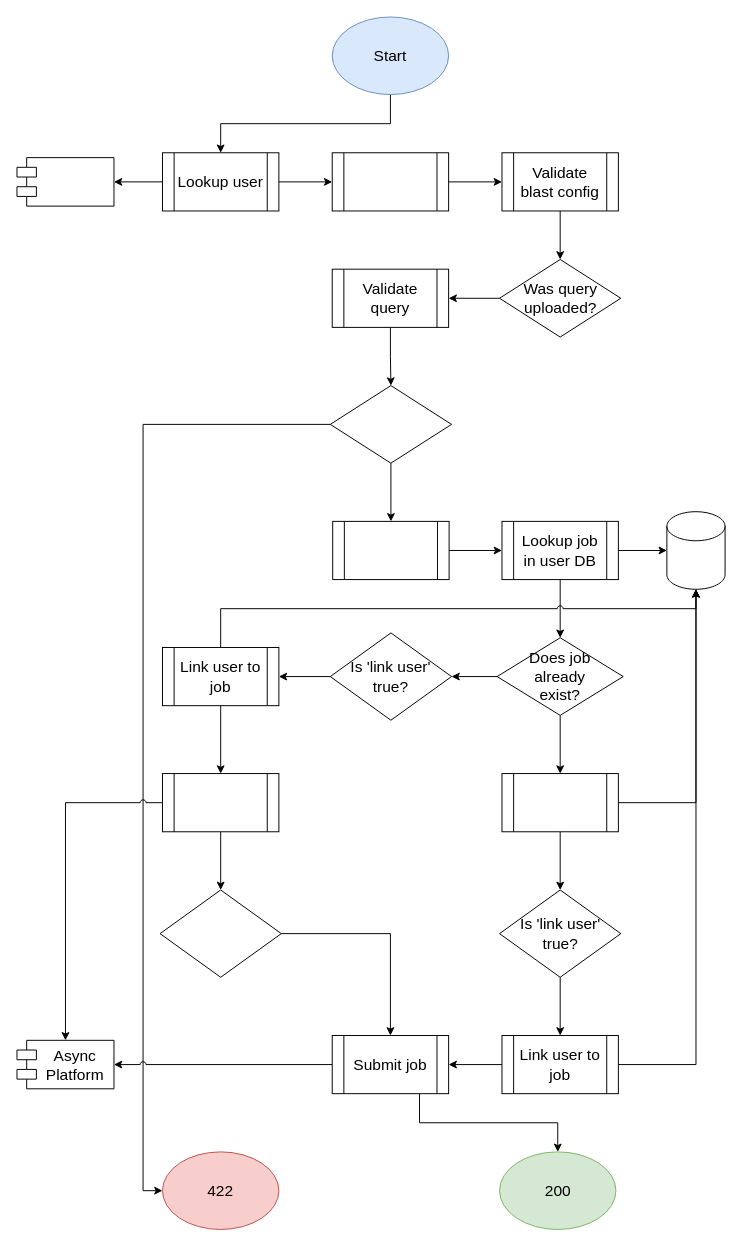
Some shapes in this 742 by 1246 pixel diagram are drawn without their labels. Each missing label, with the centre of its shape:
"Are there validation errors?" goes at point (390, 424).
"Container Core" goes at point (65, 181).
"Generate job hash" goes at point (390, 550).
"Get job status" goes at point (220, 802).
"Is job expired?" goes at point (220, 933).
"User DB" goes at point (695, 550).
"Validate job config" goes at point (390, 181).
"Write job to DB" goes at point (559, 802).
